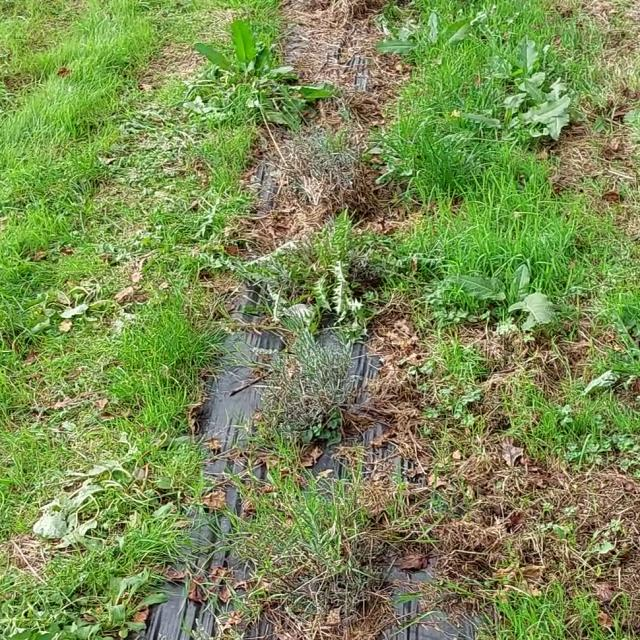organic waste: (173, 29, 340, 132), (23, 264, 145, 348), (366, 0, 508, 67), (30, 472, 138, 560), (458, 255, 570, 336), (501, 70, 602, 148), (422, 92, 554, 151), (466, 35, 567, 105)
